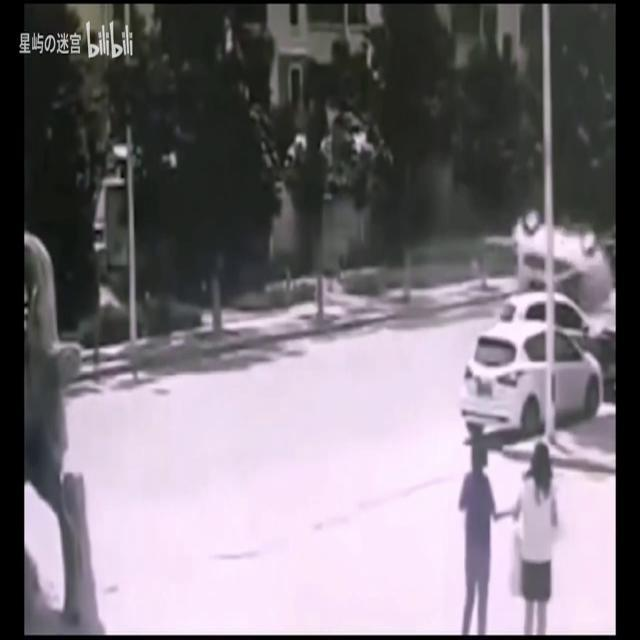accident: (511, 215, 613, 311)
non-accident: (462, 292, 602, 438)
